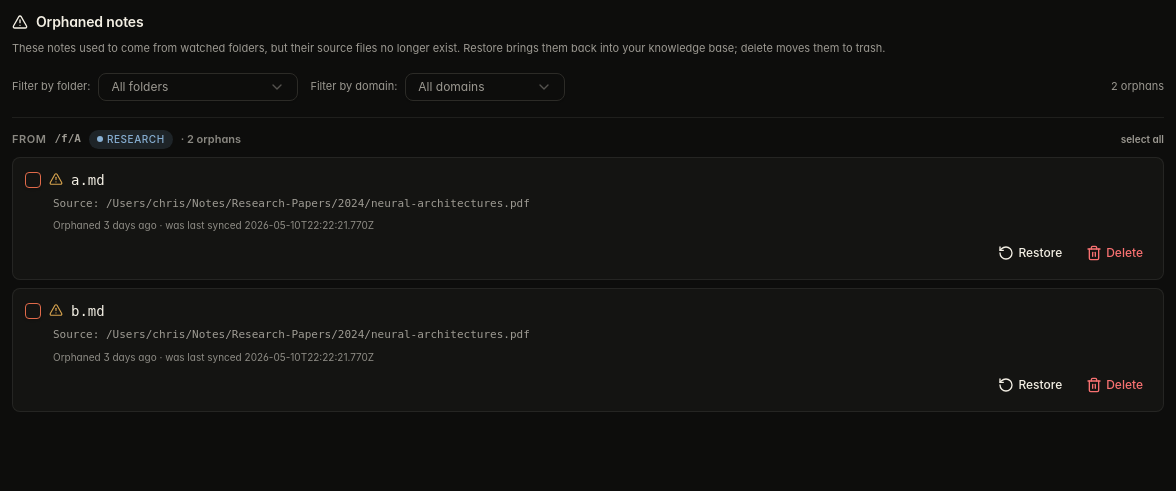
Scenario: PanelOrphans — bulk actions › selecting rows surfaces the bulk-action bar with role=region
The image size is (1176, 491).
Expected: the number of list items with test id "orphan-row" is 2, [12, 156, 1164, 280]; [12, 288, 1164, 412]
Step 1. Click the checkbox with test id "orphan-row-checkbox-/vault/r/a.md" → [33, 180], box [25, 172, 41, 188]
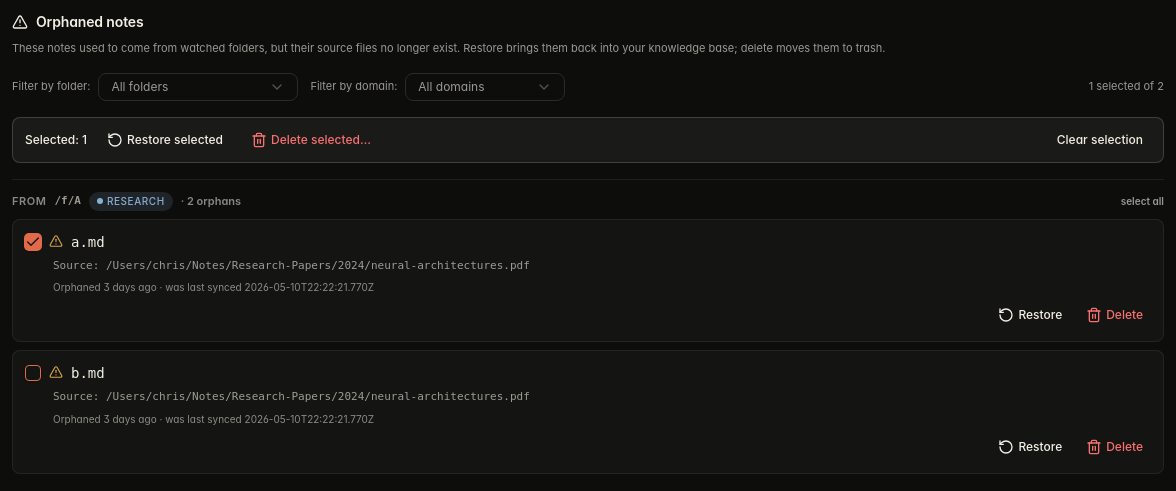
Now the element with test id "orphans-bulk-bar" shows "Selected: 1", box [12, 116, 1164, 162]
